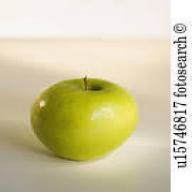apple: (27, 78, 138, 161)
